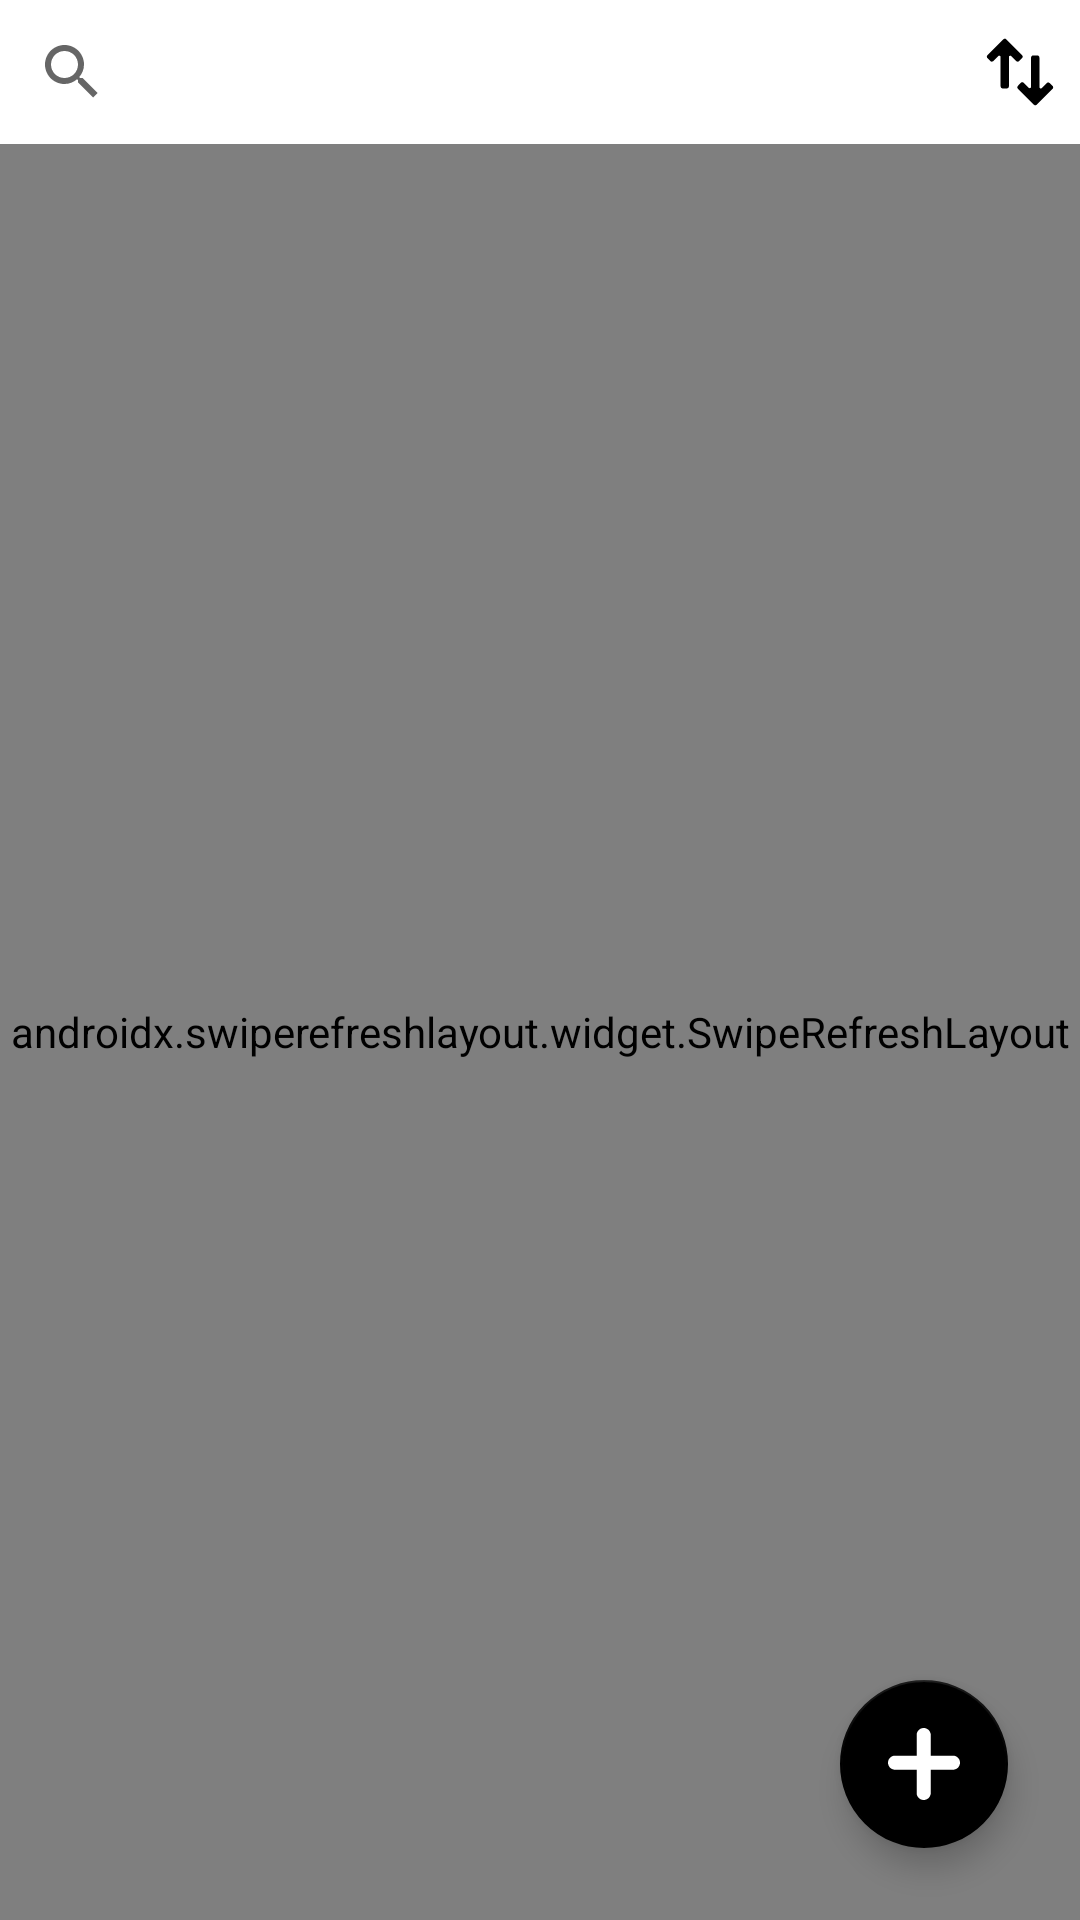

Screen size 1080×1920. Icon name, then its center in pixels as point (x, y):
plus: point (924, 1764)
sort: point (1020, 72)
